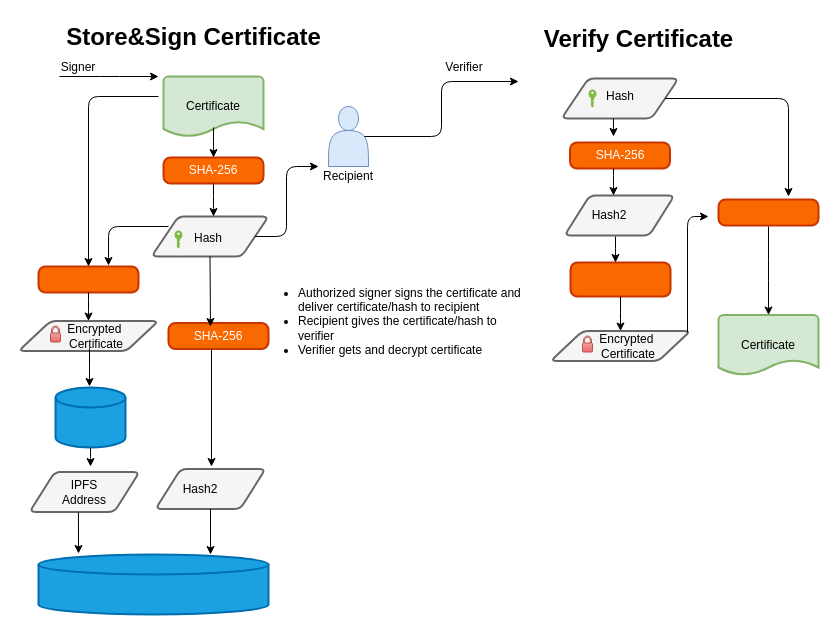
Some shapes in this 836 by 632 pixel diagram are drawn without their labels. Here are the shapes that lost their labels. From the top down, the box of each, then its label:
(717, 198, 819, 226): AES(DECRYPT)
(37, 265, 139, 293): AES(ENCRYPT)
(569, 261, 671, 297): Read Data from blockchain
(54, 386, 126, 448): IPFS
(37, 553, 269, 615): BLOCKCHAIN
